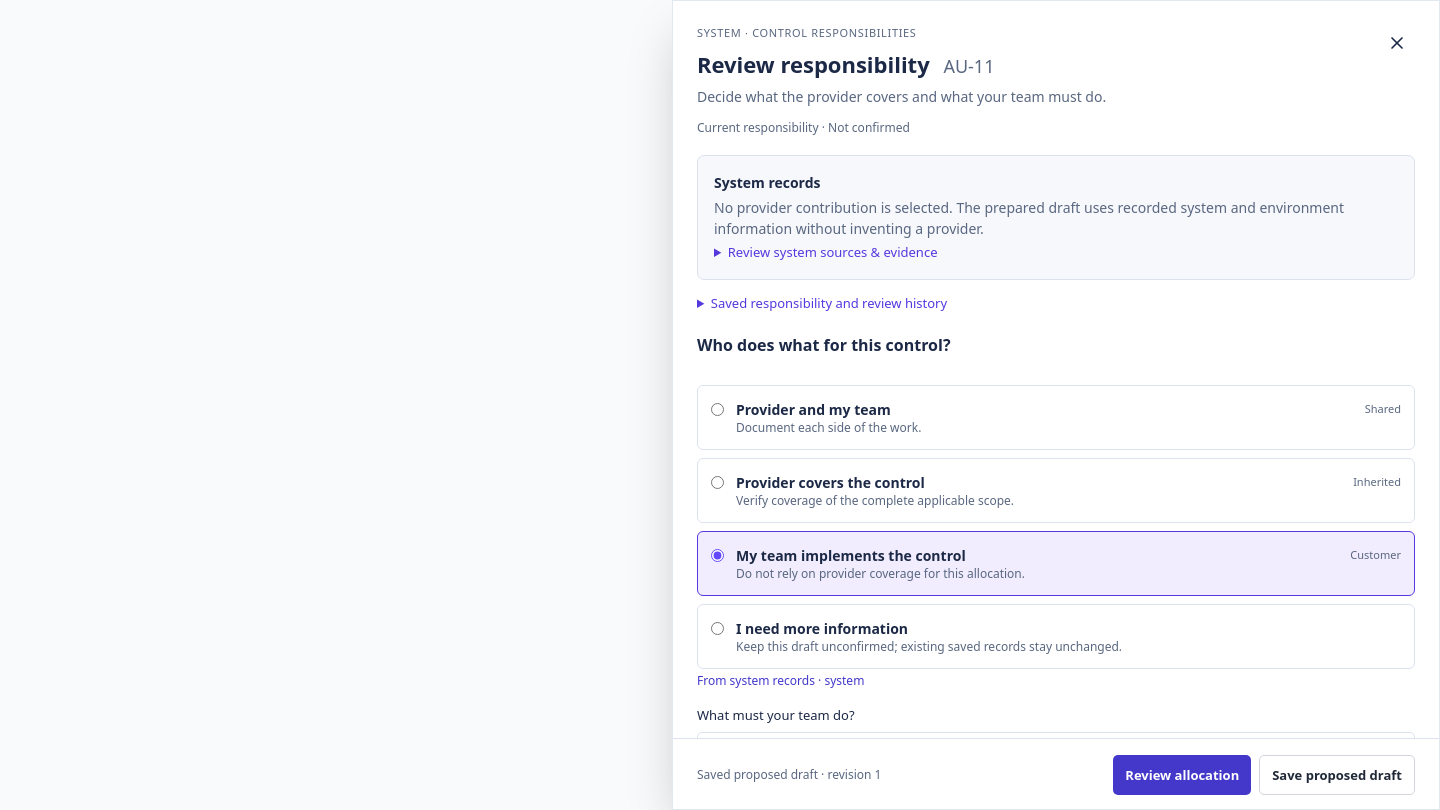
Test: saves corrections to the automatically prepared draft without accepting responsibility
Click the button "Save proposed draft".
click(1337, 775)  # box [1259, 755, 1415, 795]
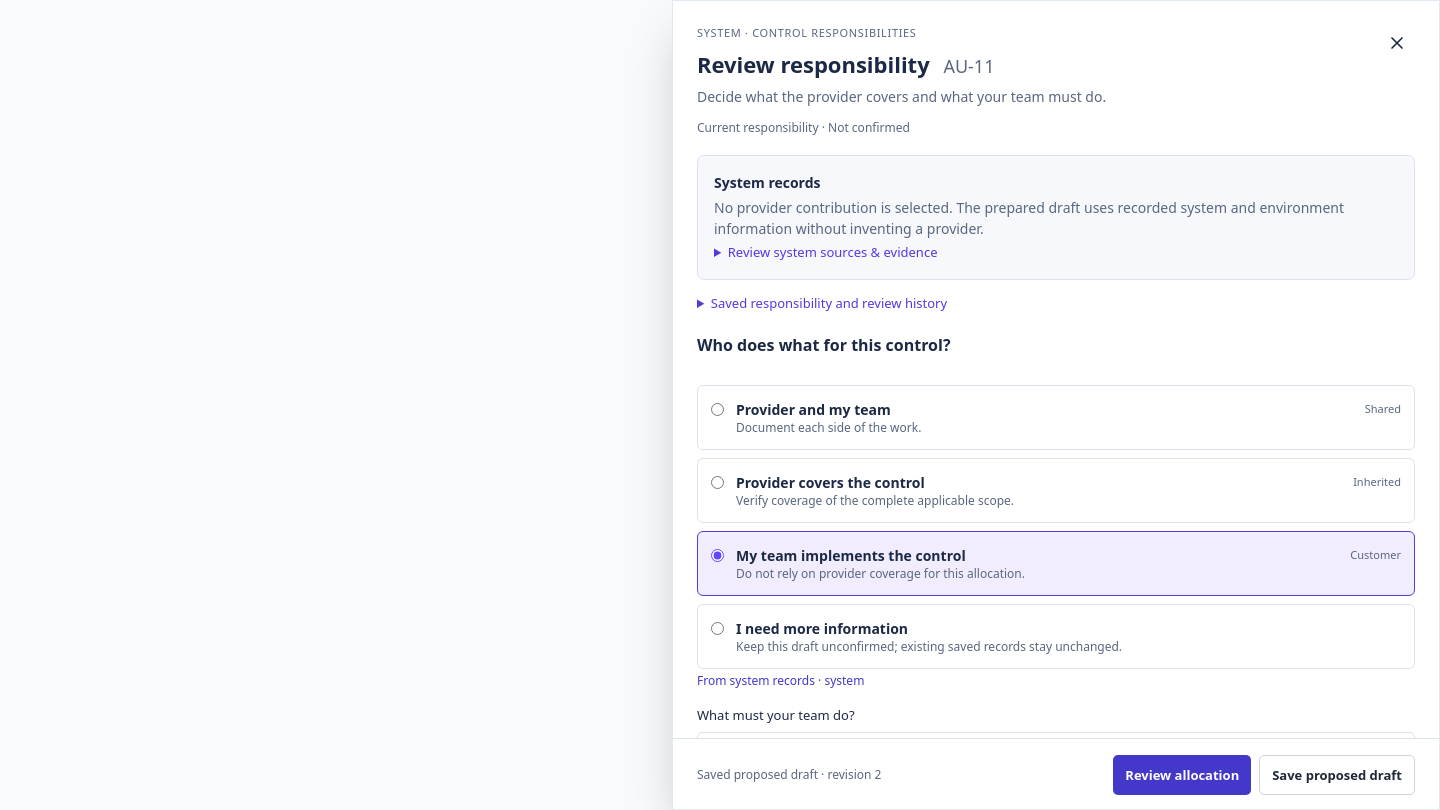
Expected: the text "Saved proposed draft · revision 2" is shown, [697, 767, 881, 783]
